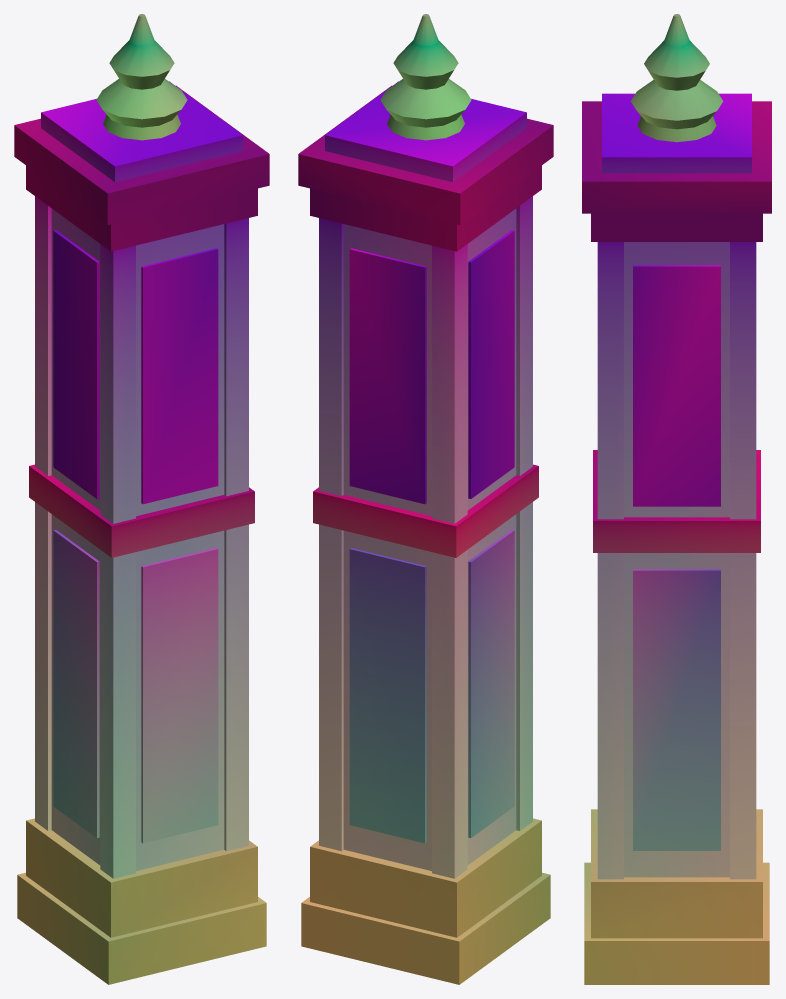
The model's file is palace_pier.glb.
3 views of the same model, side by side, from view 1: azimuth 30°, elevation 25°; view 2: azimuth 150°, elevation 25°; view 3: azimuth 270°, elevation 25° (orthographic).
Visible parts, largest first — view 1: palace_pier, palace_pier_panels, palace_pier_gild, gilt_finial; view 2: palace_pier, palace_pier_panels, palace_pier_gild, gilt_finial; view 3: palace_pier, palace_pier_panels, palace_pier_gild, gilt_finial.
Part boxes in pixels (x1,y1,x2,y2): palace_pier: [35, 81, 248, 878]; palace_pier_panels: [53, 230, 218, 843]; palace_pier_gild: [14, 85, 269, 984]; gilt_finial: [96, 14, 187, 140]; palace_pier: [319, 81, 532, 878]; palace_pier_panels: [349, 230, 514, 843]; palace_pier_gild: [298, 85, 553, 984]; gilt_finial: [380, 14, 471, 140]; palace_pier: [597, 93, 756, 879]; palace_pier_panels: [633, 265, 720, 850]; palace_pier_gild: [582, 101, 771, 984]; gilt_finial: [630, 14, 723, 142].
Size of the model in its own units: 0.86 by 4.65 by 0.86.
